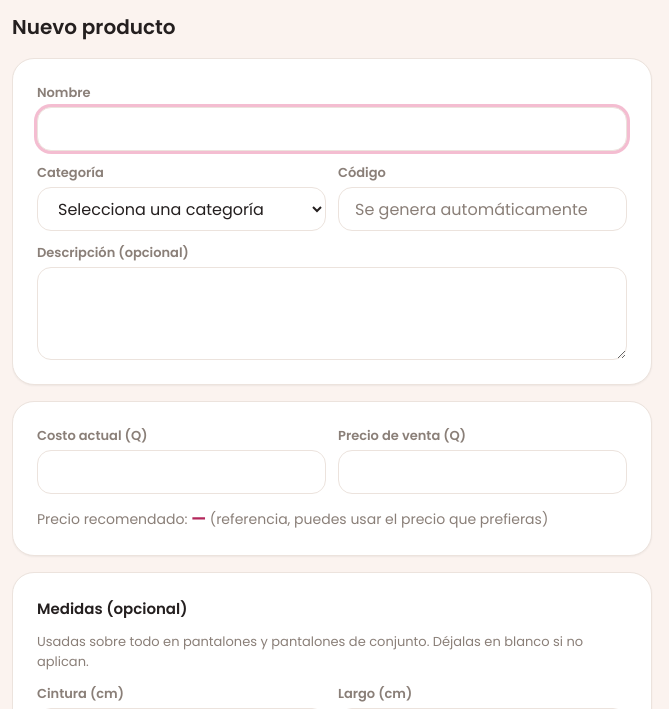
it: ProductFormPage (crear) › muestra el precio recomendado en vivo al escribir el costo
Type "65" into the number field labelled "Costo actual (Q)" at (182, 472), box [37, 450, 326, 494]
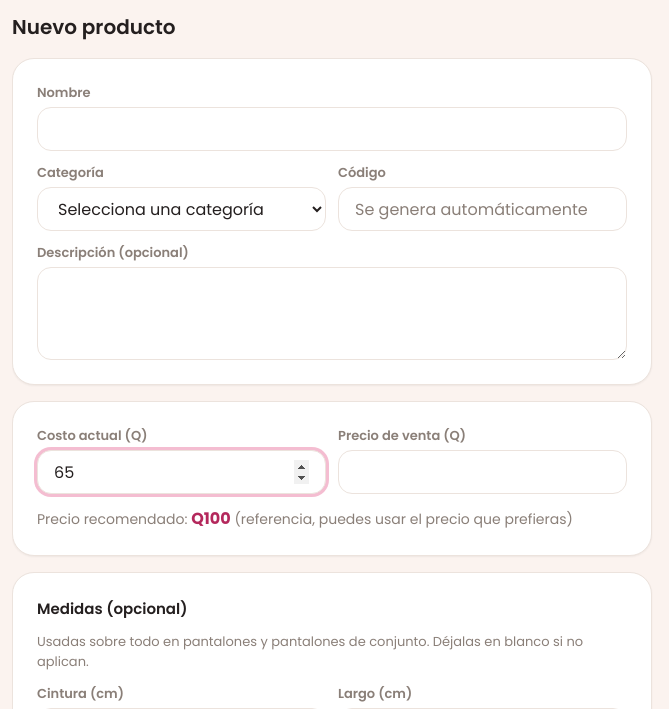
Now the text "Q100" is shown, box [191, 507, 231, 530]
